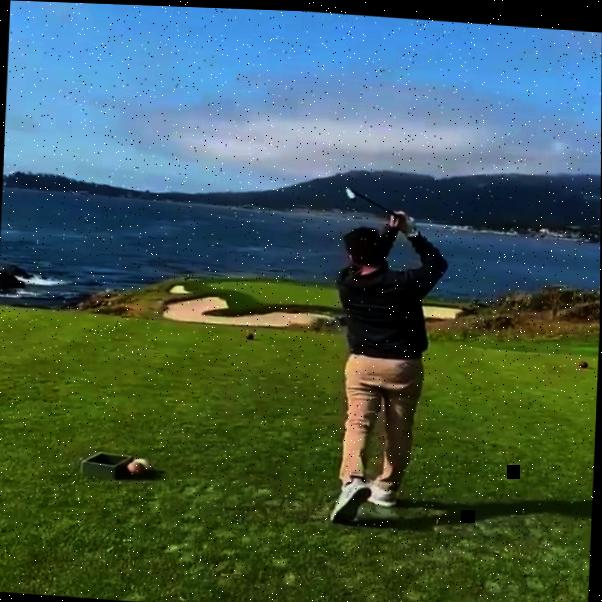ClubHead: (345, 183, 355, 196)
